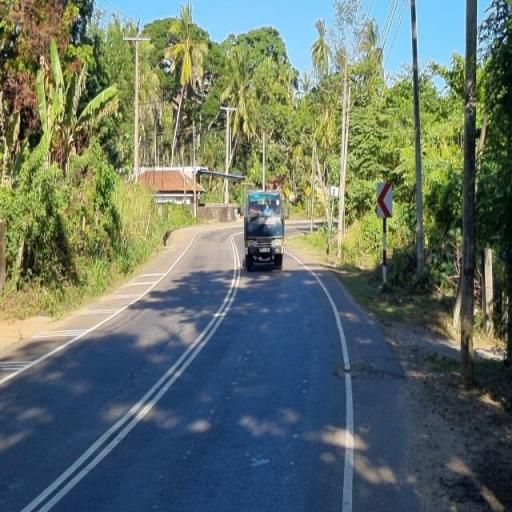double_white_line: (17, 230, 245, 511)
